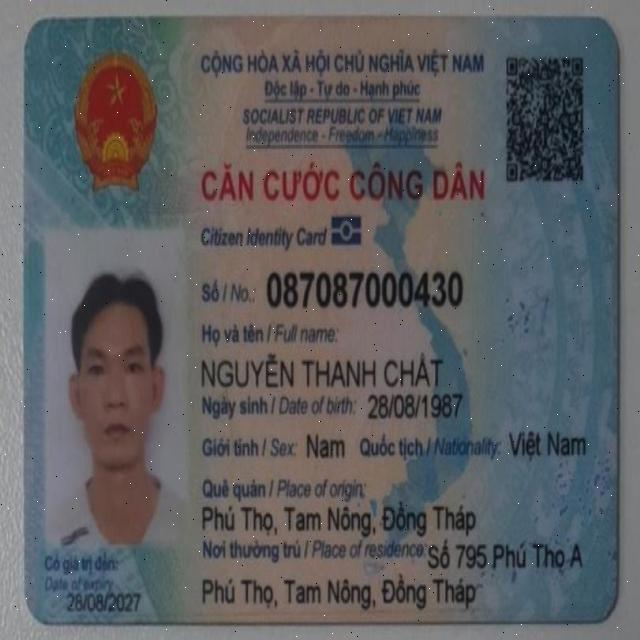current_place: (199, 567, 479, 616), (426, 535, 588, 579)
dob: (363, 389, 463, 420)
expire_date: (66, 588, 147, 614)
gender: (304, 424, 349, 470)
id: (266, 269, 464, 306)
name: (198, 348, 450, 390)
nationality: (508, 424, 586, 468)
origin_place: (199, 502, 480, 537)
